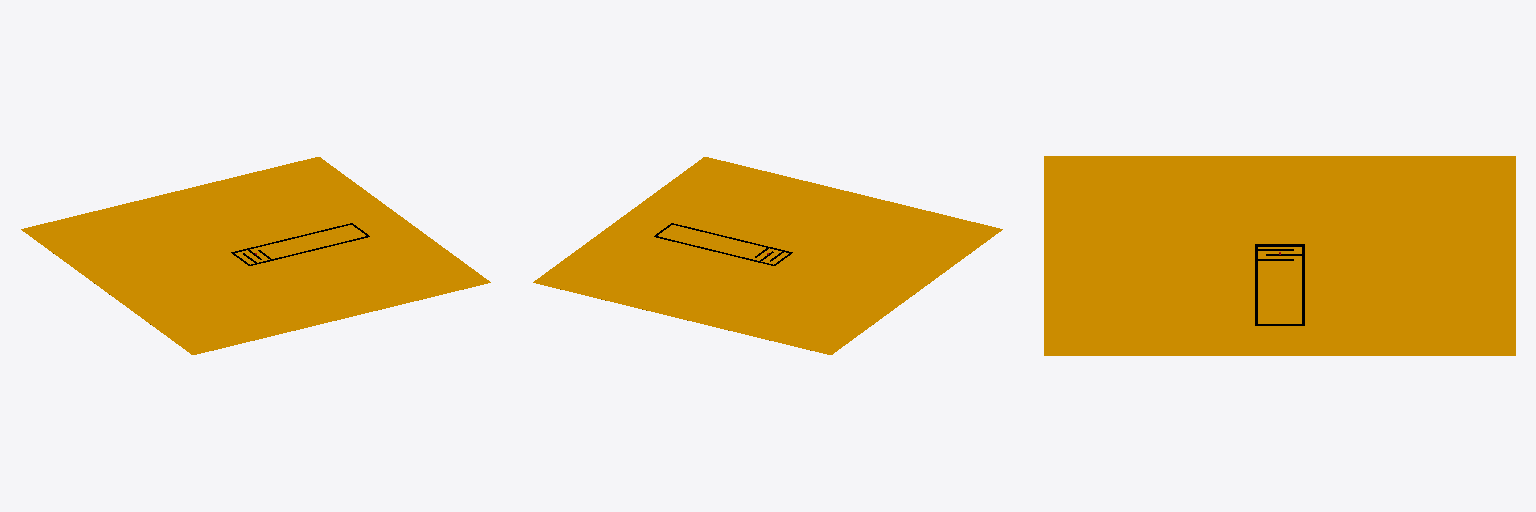
URDF robot description (robot):
<?xml version="1.0" encoding="utf-8"?>

<robot name="robot">

    <material name="black">
        <color rgba="0 0 0 1"/>
    </material>
    <material name="red">
        <color rgba="0.8 0.1 0.1 1"/>
    </material>
    <material name="green">
        <color rgba="0.1 0.9 0.1 1"/>
    </material>
    <material name="white">
        <color rgba="1 1 1 1"/>
    </material>

    <link name="base_link">
        <origin rpy="0.0 0.0 0.0" xyz="0 0 0.00"/>
        <visual>
            <!-- <origin rpy="0.0 0.0 0.0" xyz="0.0 0.0 0.0"/> -->
            <geometry>
                <box size="10 10 0.001"/>
            </geometry>
        </visual>
    </link>

    <!-- <link name="maze">
        <visual>
            <origin rpy="0.0 0.0 0.0" xyz="0.0 0.0 0.0"/>
            <geometry>
                <mesh filename="package://maze/urdf/meshes/maze.stl"/>
            </geometry>
        </visual>
        <collision>
            <origin rpy="0.0 0.0 0.0" xyz="0.0 0.0 0.0"/>
            <geometry>
                <mesh filename="package://maze/urdf/meshes/maze.stl"/>
            </geometry>
        </collision>
        <inertial>
            <mass value="10000"/>
            <inertia ixx="100"  ixy="0"  ixz="0" iyy="100" iyz="0" izz="100" />
        </inertial>
    </link> -->

    <link name="wall_left">
        <visual>
            <origin rpy="0.0 0.0 0.0" xyz="0.0 0.0 0.0"/>
            <geometry>
                <box size="0.05 1.05 0.05"/>
            </geometry>
            <material name="black"/>
        </visual>
        <collision>
            <origin rpy="0.0 0.0 0.0" xyz="0.0 0.0 0.0"/>
            <geometry>
                <box size="0.05 1 0.15"/>
            </geometry>
        </collision>
        <inertial>
            <mass value="10000"/>
            <inertia ixx="100"  ixy="0"  ixz="0" iyy="100" iyz="0" izz="100" />
        </inertial>
    </link>

    <joint name="base_to_wall_left" type="fixed">
        <parent link="base_link"/>
        <child link="wall_left"/>
        <origin rpy="0 0 0" xyz="-0.5 0 0"/>
    </joint>


    <link name="wall_right">
        <visual>
            <origin rpy="0.0 0.0 0.0" xyz="0.0 0.0 0.0"/>
            <geometry>
                <box size="0.05 1.05 0.05"/>
            </geometry>
            <material name="black"/>
        </visual>
        <collision>
            <origin rpy="0.0 0.0 0.0" xyz="0.0 0.0 0.0"/>
            <geometry>
                <box size="0.05 1 0.15"/>
            </geometry>
        </collision>
        <inertial>
            <mass value="10000"/>
            <inertia ixx="100"  ixy="0"  ixz="0" iyy="100" iyz="0" izz="100" />
        </inertial>
    </link>

    <joint name="base_to_wall_right" type="fixed">
        <parent link="base_link"/>
        <child link="wall_right"/>
        <origin rpy="0 0 0" xyz="3.5 0 0"/>
    </joint>


     <link name="wall_top">
        <visual>
            <origin rpy="0.0 0.0 0.0" xyz="0.0 0.0 0.0"/>
            <geometry>
                <box size="4.0 0.05 0.05"/>
            </geometry>
            <material name="black"/>
        </visual>
        <collision>
            <origin rpy="0.0 0.0 0.0" xyz="0.0 0.0 0.0"/>
            <geometry>
                <box size="4.0 0.05 0.15"/>
            </geometry>
        </collision>
        <inertial>
            <mass value="10000"/>
            <inertia ixx="100"  ixy="0"  ixz="0" iyy="100" iyz="0" izz="100" />
        </inertial>
    </link>

    <joint name="base_to_wall_top" type="fixed">
        <parent link="base_link"/>
        <child link="wall_top"/>
        <origin rpy="0 0 0" xyz="1.5 0.5 0"/>
    </joint>

    <link name="wall_bottom">
        <visual>
            <origin rpy="0.0 0.0 0.0" xyz="0.0 0.0 0.0"/>
            <geometry>
                <box size="4.0 0.05 0.05"/>
            </geometry>
            <material name="black"/>
        </visual>
        <collision>
            <origin rpy="0.0 0.0 0.0" xyz="0.0 0.0 0.0"/>
            <geometry>
                <box size="4.0 0.05 0.15"/>
            </geometry>
        </collision>
        <inertial>
            <mass value="10000"/>
            <inertia ixx="100"  ixy="0"  ixz="0" iyy="100" iyz="0" izz="100" />
        </inertial>
    </link>

    <joint name="base_to_wall_bottom" type="fixed">
        <parent link="base_link"/>
        <child link="wall_bottom"/>
        <origin rpy="0 0 0" xyz="1.5 -0.5 0"/>
    </joint>


    <link name="obs_left">
        <visual>
            <origin rpy="0.0 0.0 0.0" xyz="0.0 0.0 0.0"/>
            <geometry>
                <box size="0.05 0.8 0.05"/>
            </geometry>
            <material name="black"/>
        </visual>
        <collision>
            <origin rpy="0.0 0.0 0.0" xyz="0.0 0.0 0.0"/>
            <geometry>
                <box size="0.05 0.80 0.15"/>
            </geometry>
        </collision>
        <inertial>
            <mass value="10000"/>
            <inertia ixx="100"  ixy="0"  ixz="0" iyy="100" iyz="0" izz="100" />
        </inertial>
    </link>

    <joint name="base_to_obs_left" type="fixed">
        <parent link="base_link"/>
        <child link="obs_left"/>
        <origin rpy="0 0 0" xyz="-0.25 -0.1 0"/>
    </joint>

     <link name="obs_mid">
        <visual>
            <origin rpy="0.0 0.0 0.0" xyz="0.0 0.0 0.0"/>
            <geometry>
                <box size="0.05 0.8 0.05"/>
            </geometry>
            <material name="black"/>
        </visual>
        <collision>
            <origin rpy="0.0 0.0 0.0" xyz="0.0 0.0 0.0"/>
            <geometry>
                <box size="0.05 0.80 0.15"/>
            </geometry>
        </collision>
        <inertial>
            <mass value="10000"/>
            <inertia ixx="100"  ixy="0"  ixz="0" iyy="100" iyz="0" izz="100" />
        </inertial>
    </link>

    <joint name="base_to_obs_mid" type="fixed">
        <parent link="base_link"/>
        <child link="obs_mid"/>
        <origin rpy="0 0 0" xyz="0.0 0.1 0"/>
    </joint>


    <link name="obs_right">
        <visual>
            <origin rpy="0.0 0.0 0.0" xyz="0.0 0.0 0.0"/>
            <geometry>
                <box size="0.05 0.8 0.05"/>
            </geometry>
            <material name="black"/>
        </visual>
        <collision>
            <origin rpy="0.0 0.0 0.0" xyz="0.0 0.0 0.0"/>
            <geometry>
                <box size="0.05 0.80 0.15"/>
            </geometry>
        </collision>
        <inertial>
            <mass value="10000"/>
            <inertia ixx="100"  ixy="0"  ixz="0" iyy="100" iyz="0" izz="100" />
        </inertial>
    </link>

    <joint name="base_to_obs_right" type="fixed">
        <parent link="base_link"/>
        <child link="obs_right"/>
        <origin rpy="0 0 0" xyz="0.25 -0.1 0"/>
    </joint>

    <link name="bot_x">
        <origin rpy="0.0 0.0 0.0" xyz="0.0 0.0 0.0"/>
    </link>

    <link name="bot">
        <visual>
            <origin rpy="0.0 0.0 0.0" xyz="0 0 0.03"/>
            <geometry>
                <cylinder radius="0.02" length="0.05"/>
            </geometry>
            <material name="red"/>
        </visual>
        <collision>
            <origin rpy="0.0 0.0 0.0" xyz="0 0 0.03"/>
            <geometry>
                <cylinder radius="0.02" length="0.05"/>
            </geometry>
        </collision>
        <inertial>
            <origin xyz="0 0 0" rpy="0 0 0"/>
            <mass value="0.2"/>
        </inertial>
    </link>

    <joint name="base_to_bot_x" type="prismatic">
        <parent link="base_link"/>
        <child link="bot_x"/>
        <origin rpy="0 0 0" xyz="0 0 0.01"/>
        <axis xyz="1 0 0"/>
        <limit lower="-0.4" upper="3.45"/>
    </joint>

    <joint name="bot_x_to_bot" type="prismatic">
        <parent link="bot_x"/>
        <child link="bot"/>
        <origin rpy="0 0 0" xyz="0 0 0.01"/>
        <axis xyz="0 1 0"/>
        <limit lower="-0.4" upper="0.4"/>
    </joint>

    <!-- <link name="goal">
        <visual>
            <origin rpy="0.0 0.0 0.0" xyz="0 0 0.03"/>
            <geometry>
                <cylinder radius="0.05" length="0.05"/>
            </geometry>
            <material name="green"/>
        </visual>
    </link>


    <joint name="base_to_goal" type="fixed">
        <parent link="base_link"/>
        <child link="goal"/>
        <origin rpy="0 0 0" xyz="0.35 -0.4 0.01"/>
        <axis xyz="0 1 0"/>
    </joint> -->

</robot>

--- Facts derived from the render (not from the file) ---
Views: 3 orthographic renders of the robot side by side, from view 1: azimuth 30°, elevation 25°; view 2: azimuth 150°, elevation 25°; view 3: azimuth 270°, elevation 25°.
Robot: robot — 10 links, 9 joints (2 prismatic, 7 fixed); root link base_link; default pose: all joints at 0.
Visible links, largest first — view 1: base_link; view 2: base_link; view 3: base_link.
Link boxes in pixels (x1,y1,x2,y2): base_link: (21,157,490,354); base_link: (533,157,1002,354); base_link: (1044,156,1515,355).
Bounding box of the posed robot: 10 × 10 × 0.1 m (x, y, z).
Geometry: primitives only (box / cylinder / sphere), no mesh files.